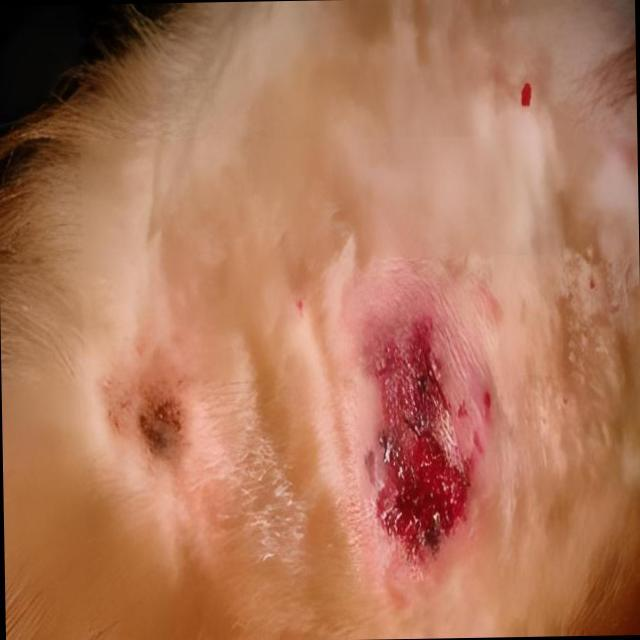allergic dermatitis: (340, 251, 488, 578), (90, 329, 202, 480)
